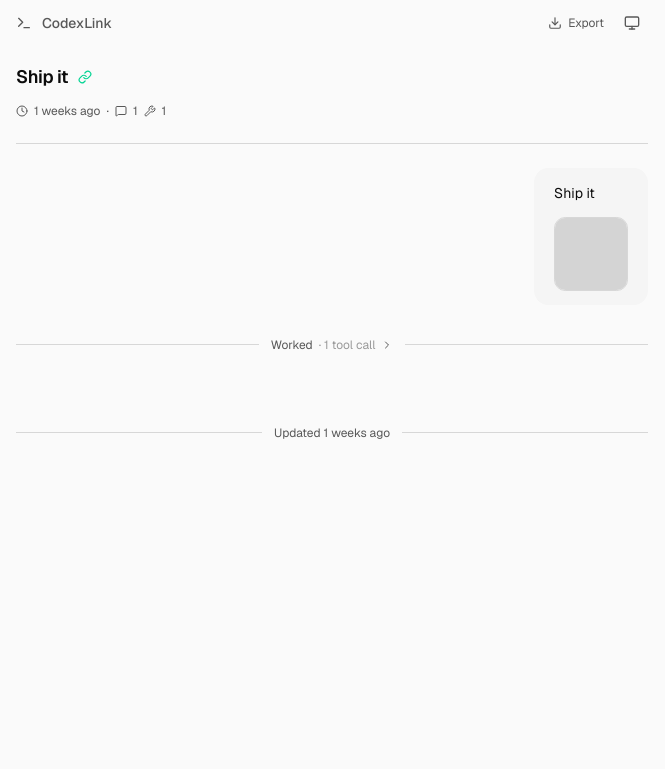
Test: web transcript page › renders transcript content for active shares
Expected: the heading "Ship it" is shown, [16,63,68,91]
# Work block is collapsed by default — expand it
Step 1. Click the button "Worked · 1 tool call" → [332, 345], box [16,329,648,361]
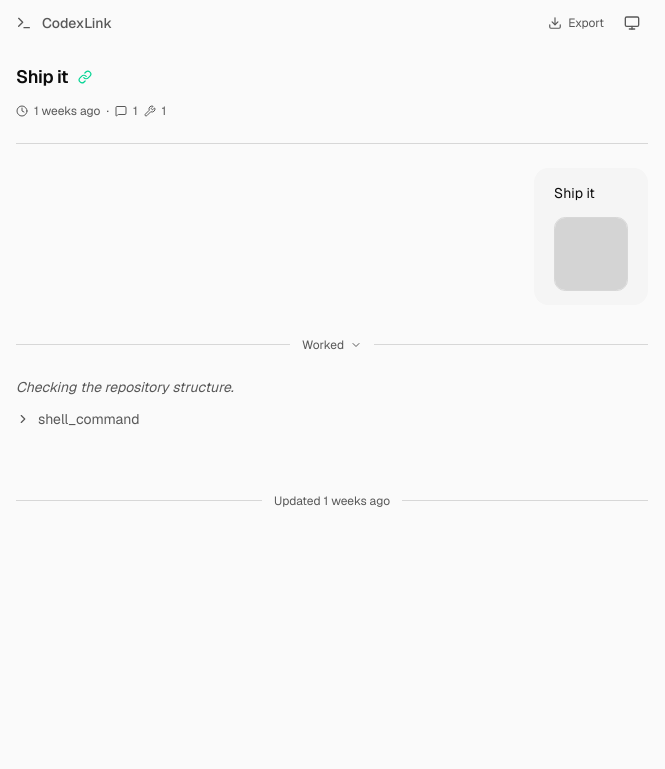
Now the text "Checking the repository structure." is shown, box [16,378,234,396]
Now the text "shell_command" is shown, box [38,409,140,429]
# Click to expand tool output
Step 2. Click the button "shell_command" → [78, 419], box [16,409,140,429]
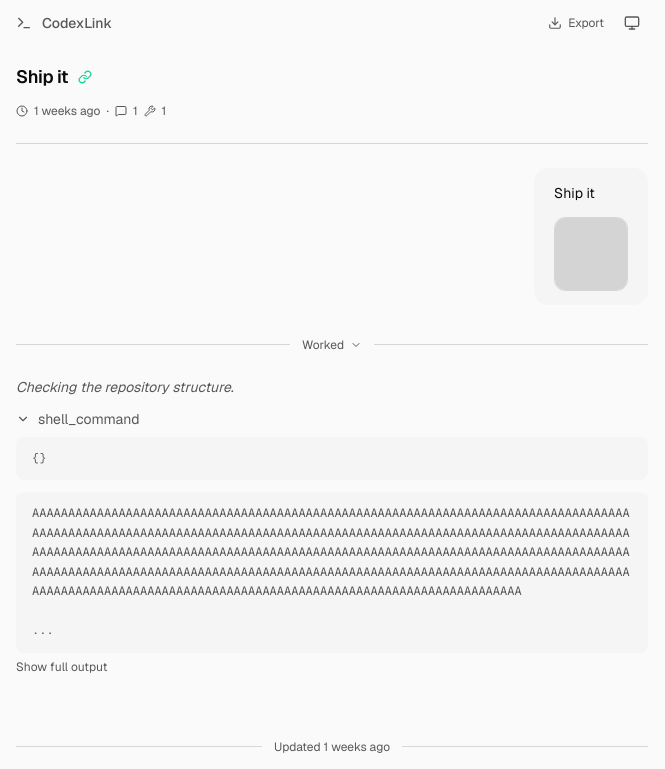
Now the button "Show full output" is shown, box [16,659,107,675]
